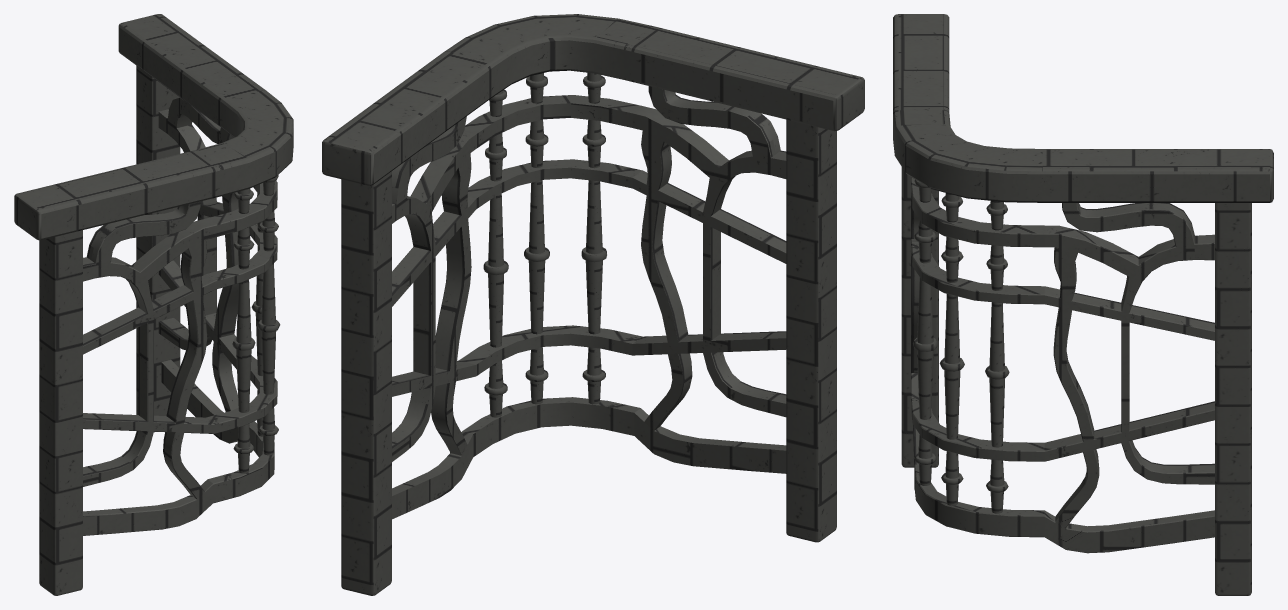
The model's file is Fence_Curved_A_UV.fbx.
3 views of the same model, side by side, from view 1: azimuth 30°, elevation 25°; view 2: azimuth 150°, elevation 25°; view 3: azimuth 270°, elevation 25° (orthographic). The views are drawn at different scales.
Visible parts, largest first — view 1: Fence_Curved_A; view 2: Fence_Curved_A; view 3: Fence_Curved_A.
Boxes of the visible parts, <box> form: Fence_Curved_A: <box>14,14,293,595</box>; Fence_Curved_A: <box>322,14,864,595</box>; Fence_Curved_A: <box>893,14,1273,595</box>.
Bounding box in the file's own units: 61.85 × 78.24 × 62.78.
